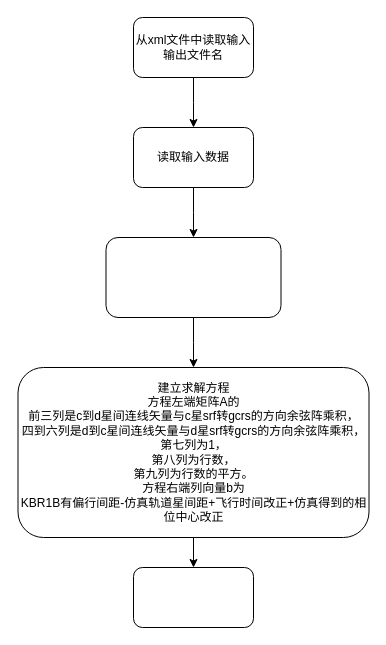
This 386x645 diagram has some shape labels left out. The shapes that lost their labels are listed below. From the top down, each one's centre as x and y in pixels, then its label:
(193,277): 以双星GNI1B起始位置为积分器起点，以KBR1B时间标签为积分输出时间标签仿真轨道
(193,597): 解方程
